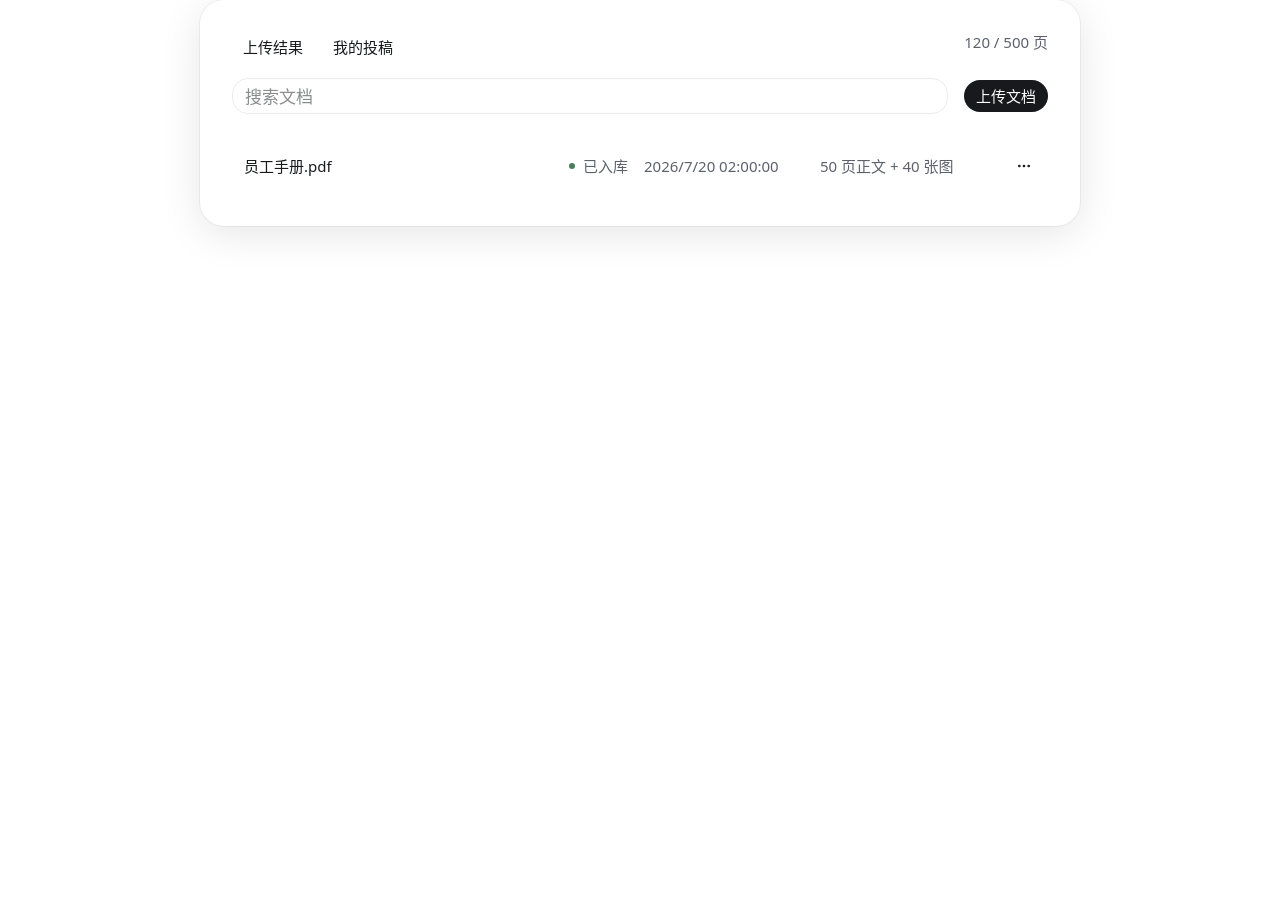
Test: KnowledgeModule mutation 代际与 single-flight（review A1/A5） › 删除 409 冲突：清 pending 意图并刷新当前视图（不用旧 query 覆盖）
The width and height of the screenshot is (1280, 900).
Click the button named "文档 员工手册.pdf 操作" at (1024, 166), box 1012,154 -> 1036,178
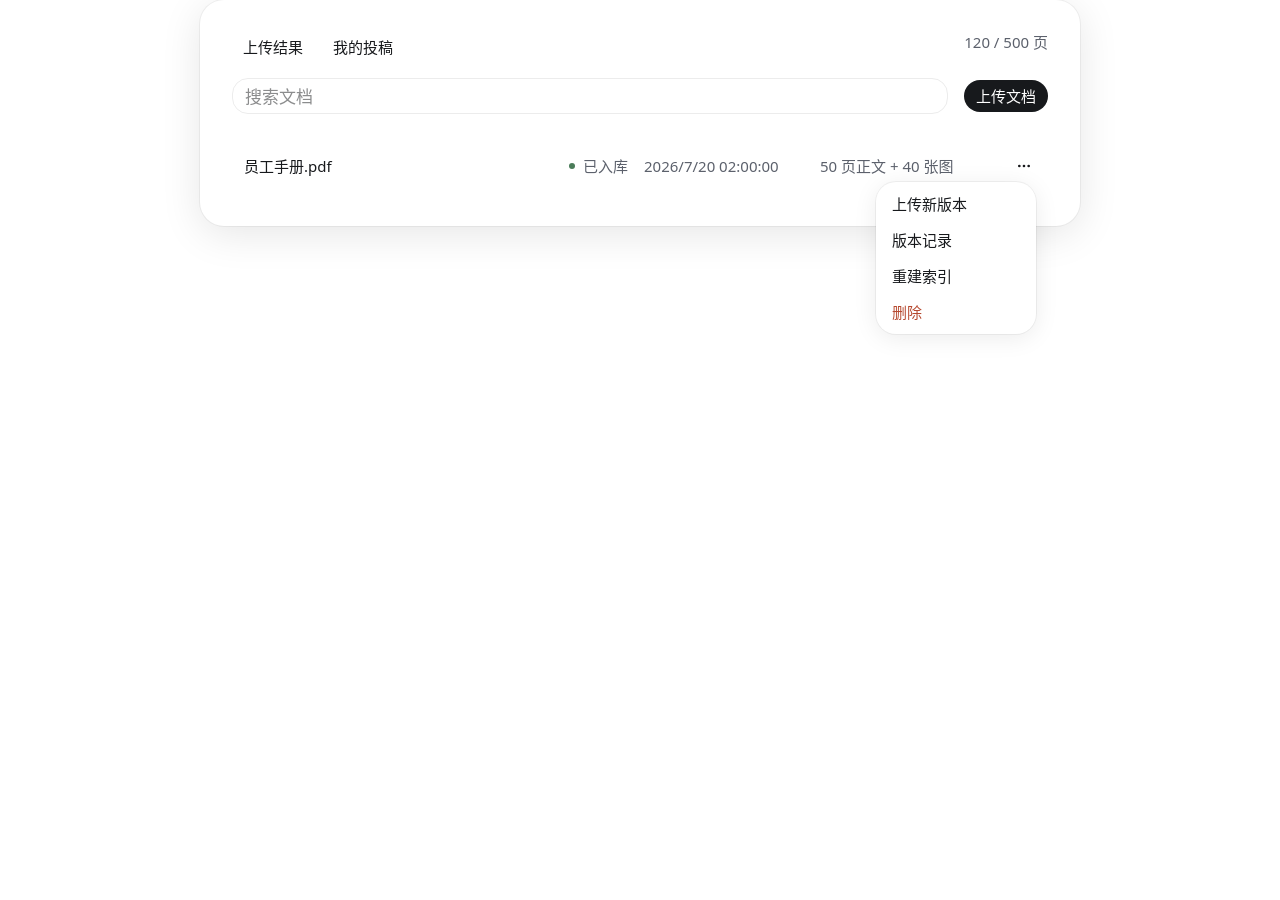
Click the menu item "删除" at (907, 312), box 892,302 -> 922,322
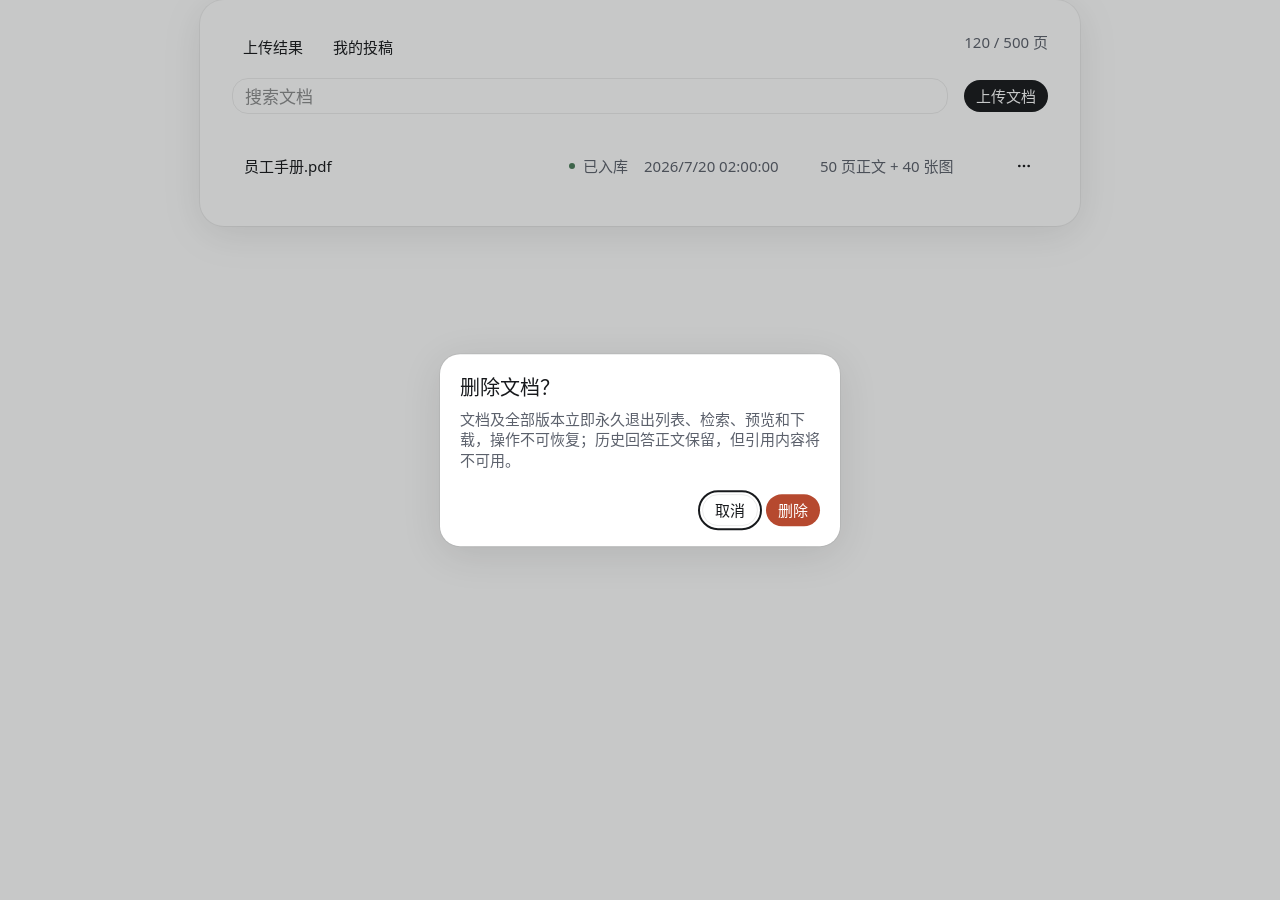
Click the button "删除" at (793, 510), box 766,494 -> 820,526
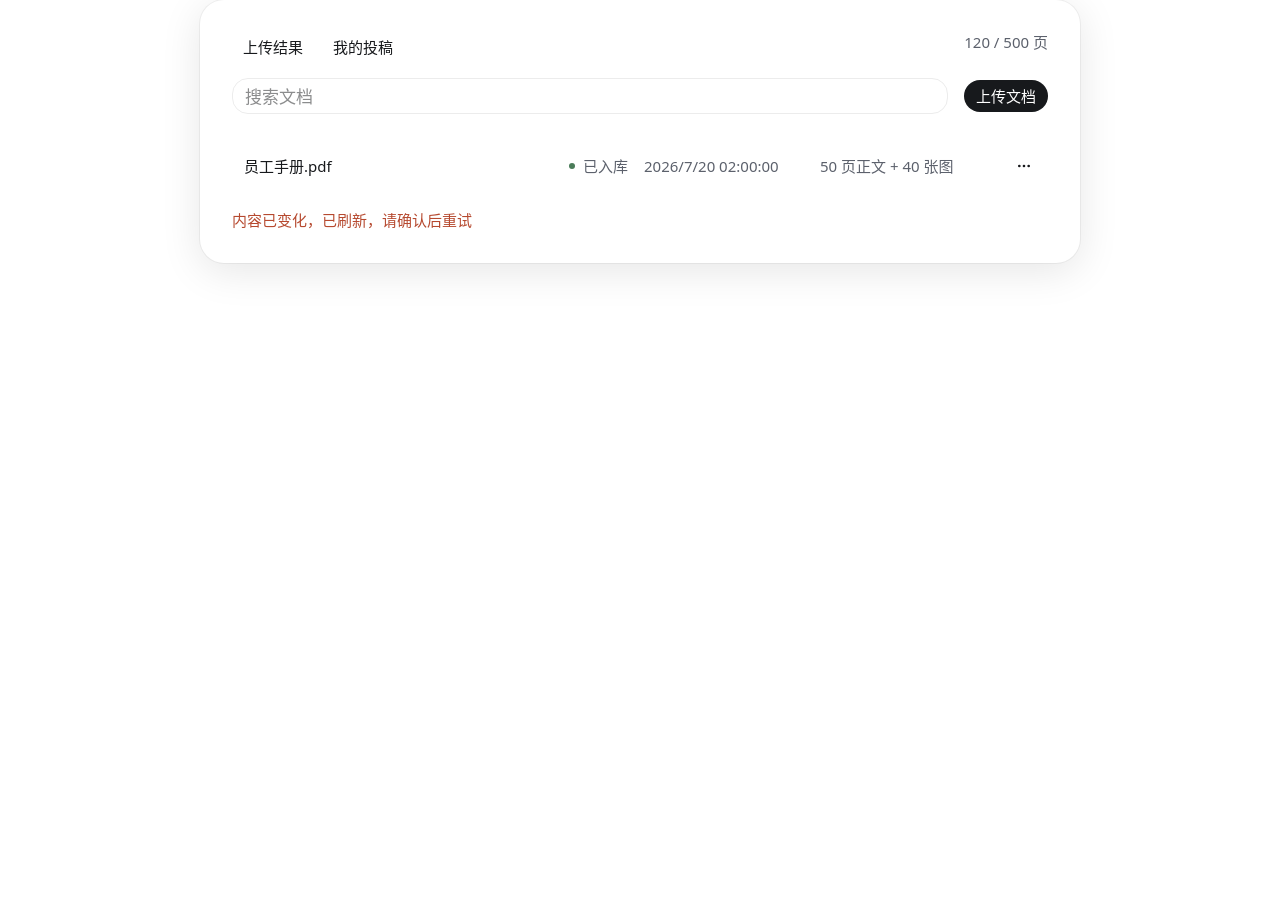
Now the dialog is gone
Now the text "内容已变化，已刷新，请确认后重试" is shown, box 232,210 -> 472,230
